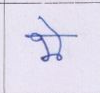e_matra: (38, 16, 60, 34)
